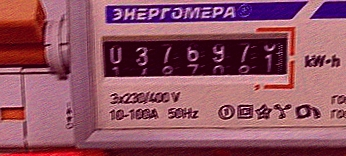0: (107, 41, 123, 63)
1: (263, 51, 275, 72)
3: (134, 42, 148, 66)
6: (186, 39, 199, 60)
7: (160, 39, 173, 63), (237, 38, 250, 62)
9: (211, 39, 224, 62)
screen: (94, 22, 299, 96)
